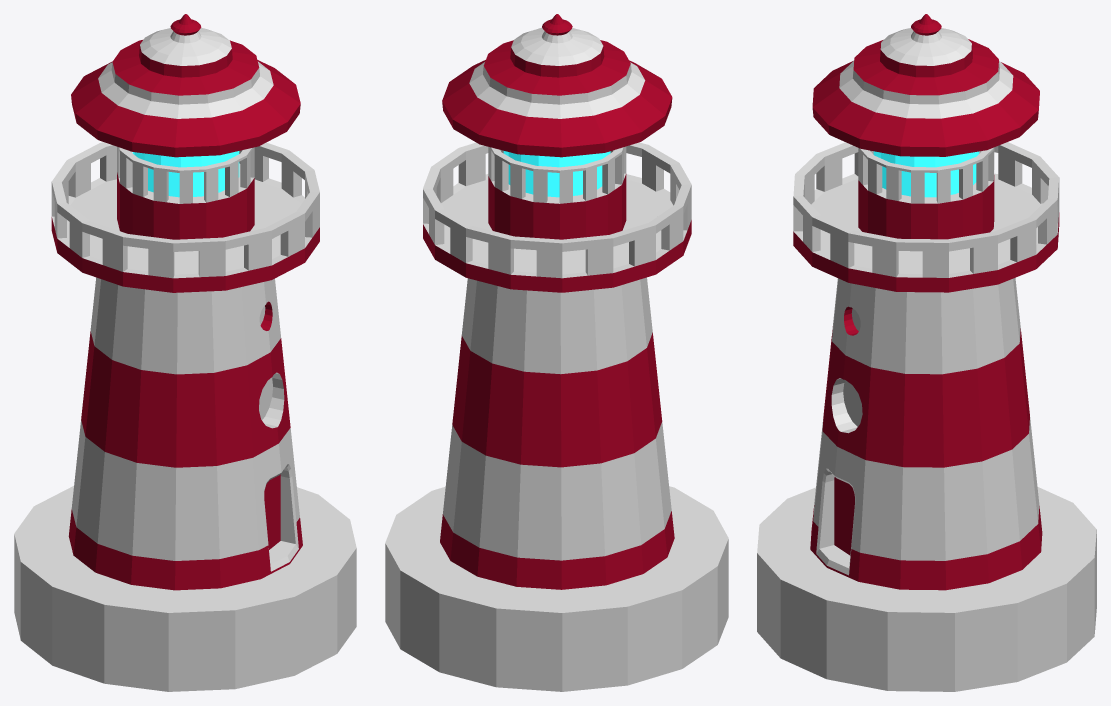
The model's file is lighthouse with light.fbx.
3 views of the same model, side by side, from view 1: azimuth 30°, elevation 25°; view 2: azimuth 150°, elevation 25°; view 3: azimuth 270°, elevation 25° (orthographic).
Visible parts, largest first — view 1: Circle.001, Circle.127; view 2: Circle.001, Circle.127; view 3: Circle.001, Circle.127.
Part boxes in pixels (<box>): Circle.001: <box>51,14,319,590</box>; Circle.127: <box>14,486,356,691</box>; Circle.001: <box>423,14,691,589</box>; Circle.127: <box>385,486,728,691</box>; Circle.001: <box>793,14,1059,590</box>; Circle.127: <box>757,487,1096,691</box>.
Size of the model in its own units: 2533 by 4983 by 2533.
